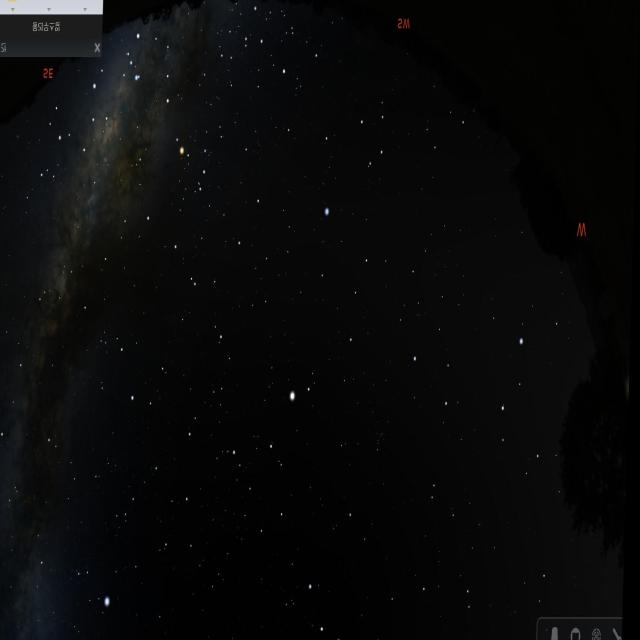aquila: (0, 285, 68, 449)
bootes: (241, 372, 321, 538)
leo: (417, 308, 551, 485)
lyra: (74, 554, 119, 626)
sagittarius: (32, 66, 119, 192)
scorpius: (120, 26, 222, 209)
